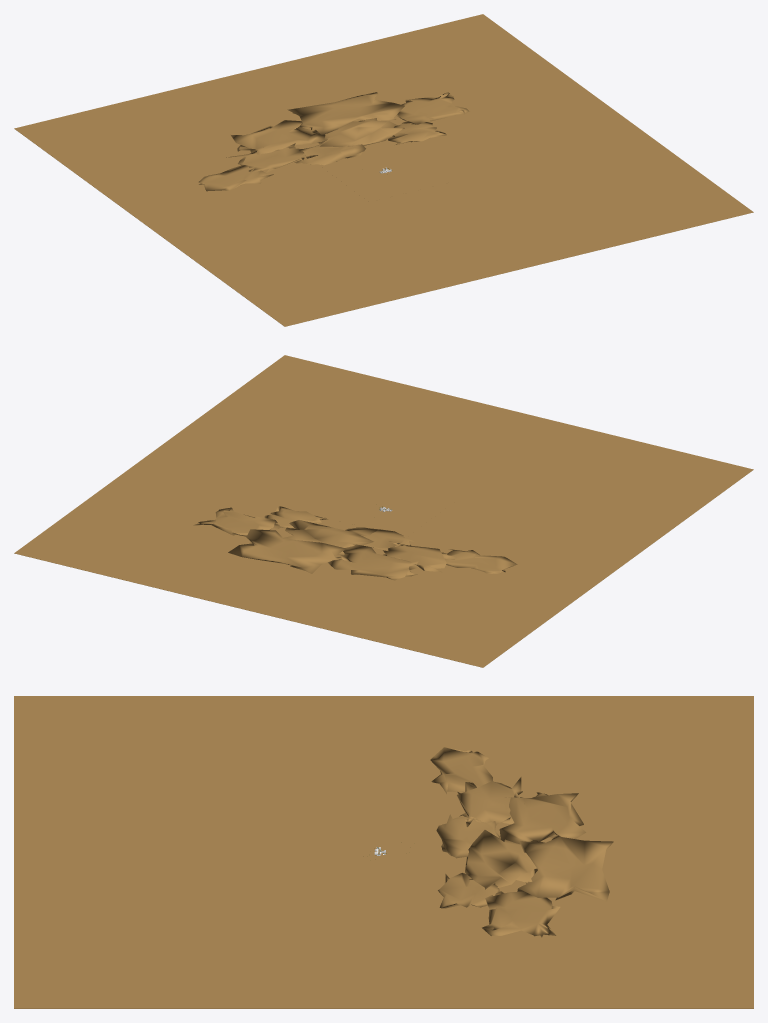
The model's file is folk_village.glb.
3 renders of one model, top to bottom at view 1: azimuth 30°, elevation 25°; view 2: azimuth 150°, elevation 25°; view 3: azimuth 270°, elevation 25°, orthographic. The views are drawn at different scales.
Visible parts, largest first — view 1: MESH_Base_Ground; view 2: MESH_Base_Ground; view 3: MESH_Base_Ground.
Part boxes in pixels (bbox=[...]): MESH_Base_Ground: bbox=[14, 14, 753, 326]; MESH_Base_Ground: bbox=[14, 355, 753, 667]; MESH_Base_Ground: bbox=[14, 696, 753, 1008].
Size of the model in its own units: 2800 by 63.53 by 2800.
